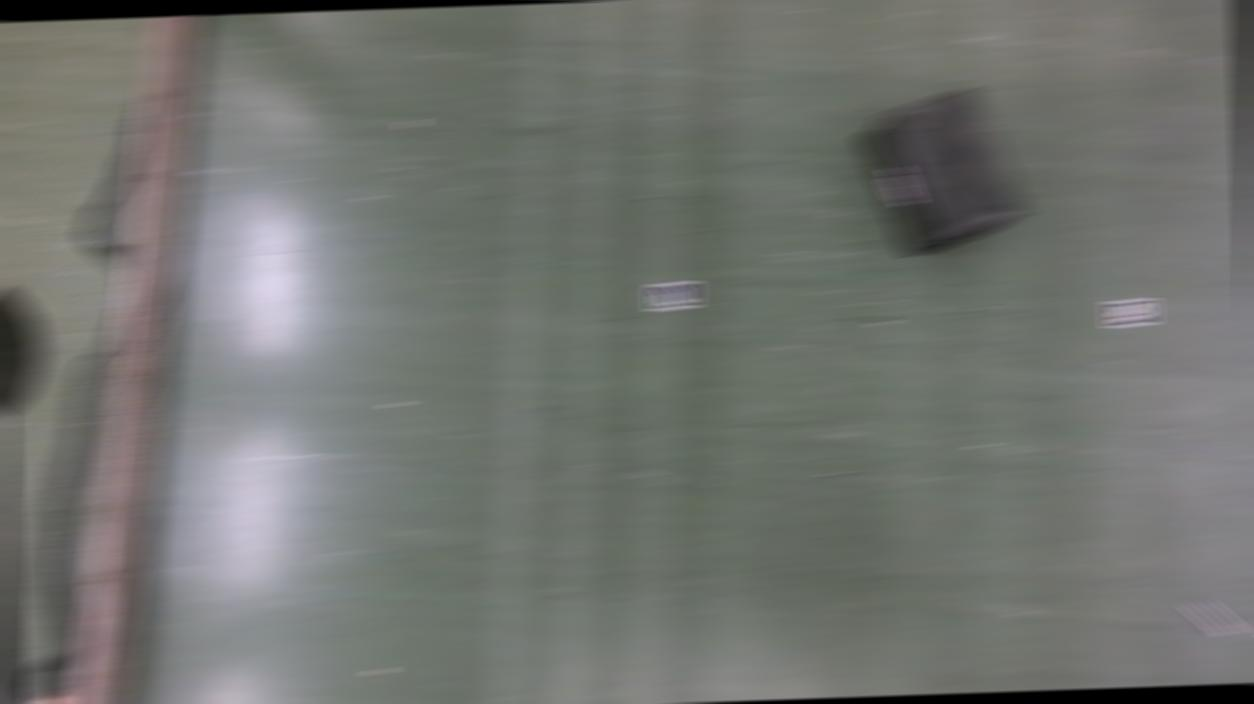probes: (1183, 596, 1242, 636)
rako: (856, 85, 1029, 260)
